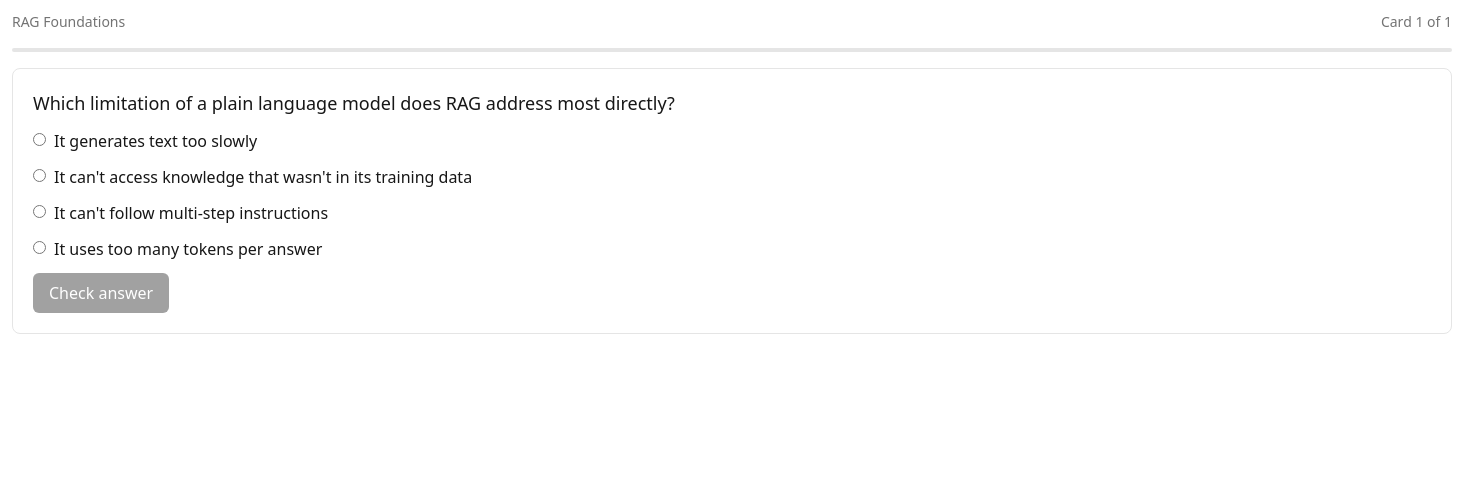
review card: select an option and reveal the answer › submits the selected option and reveals the result with rating buttons
Expected: the button "Good" is not shown
Click the radio button labelled "It can't access knowledge that wasn't in its training data" at (40, 176), box [33, 169, 46, 182]
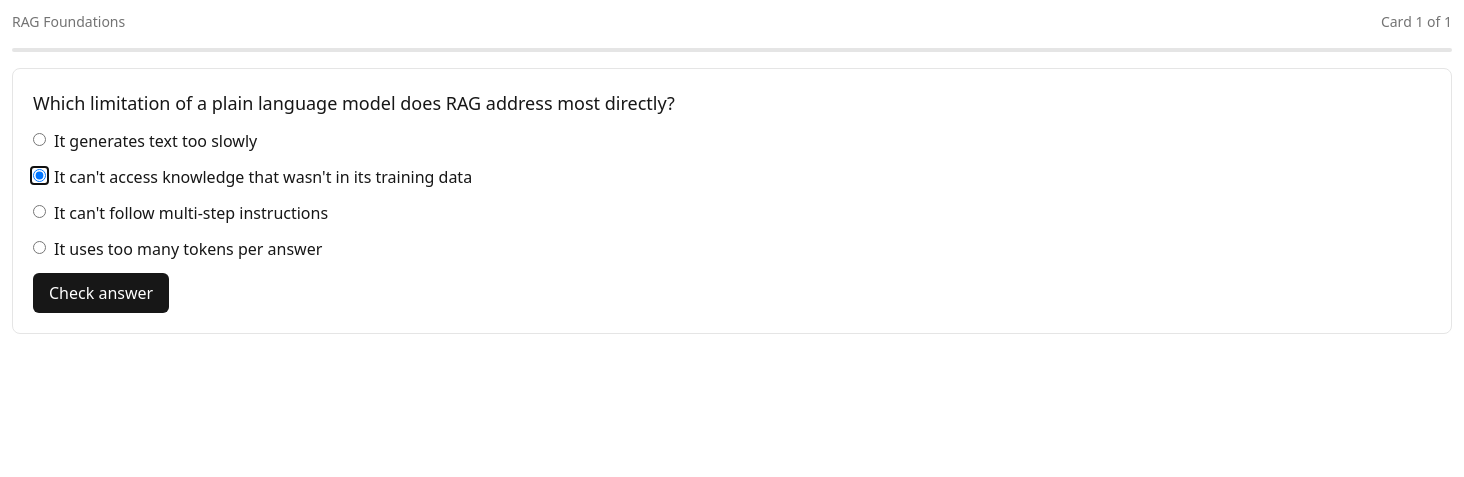
Click the button "Check answer" at (101, 293), box [33, 273, 169, 313]
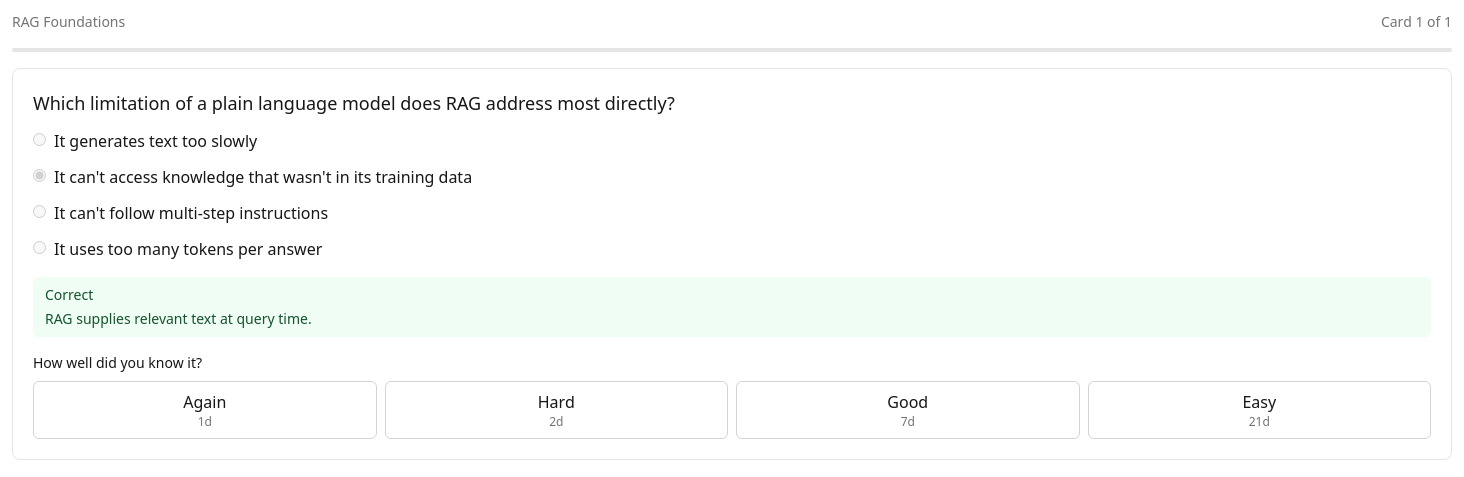
Expected: the text "Correct" is shown, [45, 285, 93, 304]
Expected: the text "RAG supplies relevant text at query time." is shown, [45, 309, 312, 328]
Expected: the button "Again 1d" is enabled, [33, 381, 376, 439]
